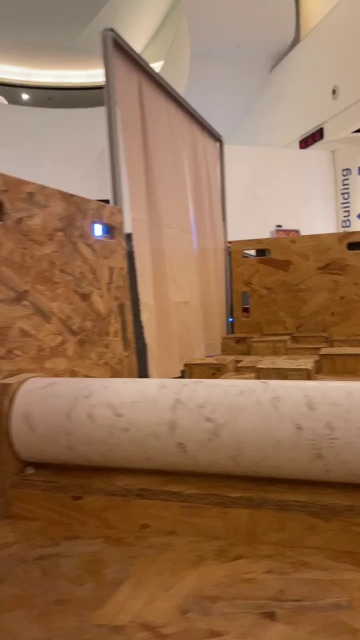curtain: (108, 26, 227, 384)
